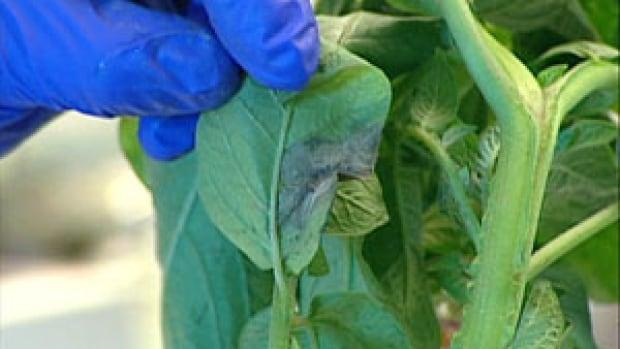Potato leaf late blight: (187, 29, 396, 277)
